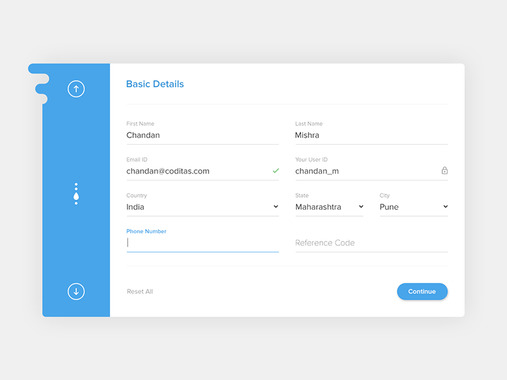_form_: (108, 96, 462, 311)
button: (395, 280, 449, 302)
field: (290, 160, 452, 182), (123, 161, 284, 182), (123, 198, 282, 219), (123, 125, 281, 145), (292, 125, 448, 145), (291, 197, 370, 218), (376, 199, 453, 218)
field_line: (125, 234, 280, 255)
field_line_with_label: (123, 227, 282, 257)
field_with_label: (289, 155, 455, 184), (121, 119, 283, 148), (120, 156, 287, 184), (291, 120, 451, 148), (121, 194, 283, 220), (290, 192, 371, 219), (374, 193, 455, 220)
